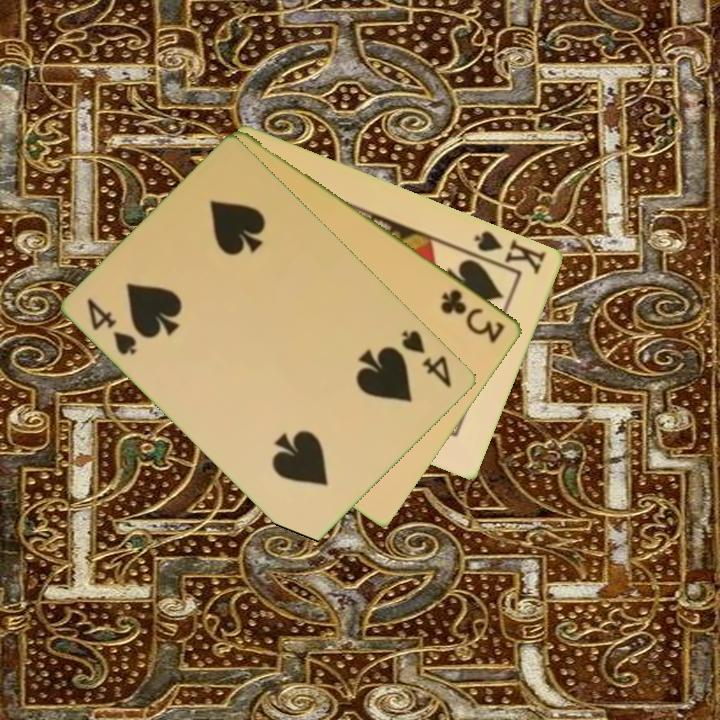3c: (437, 285, 508, 347)
4s: (399, 326, 456, 391), (84, 295, 141, 358)
Ks: (466, 226, 549, 278)
